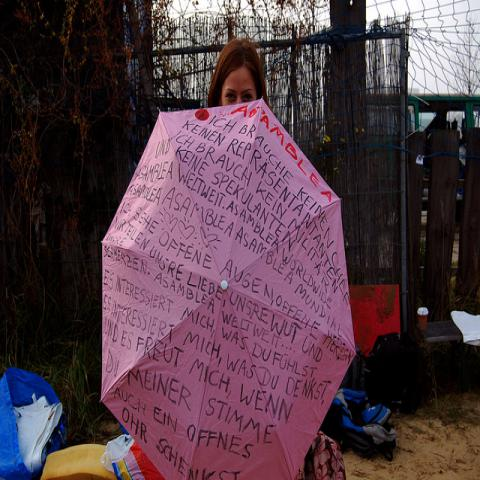bus: (406, 92, 480, 180)
